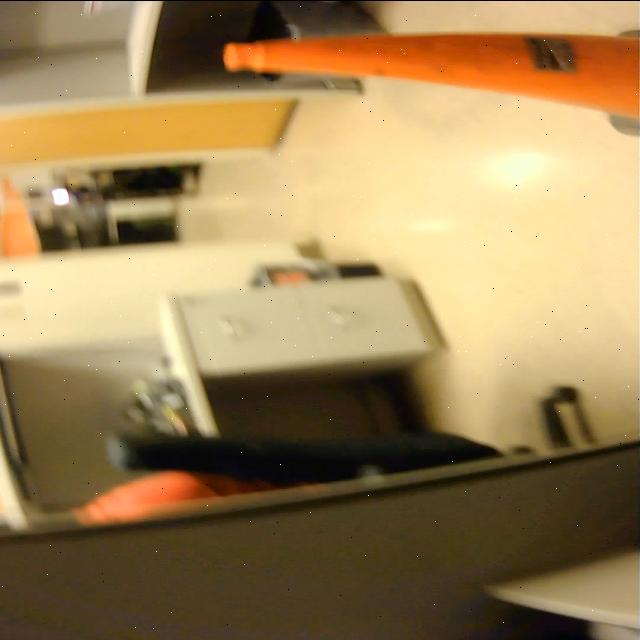traffic cone: (215, 22, 640, 150)
